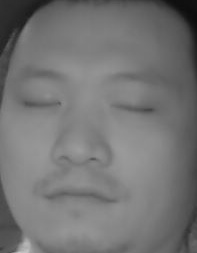blink: (113, 96, 153, 122), (23, 90, 66, 114)
mouth: (41, 177, 116, 217)
